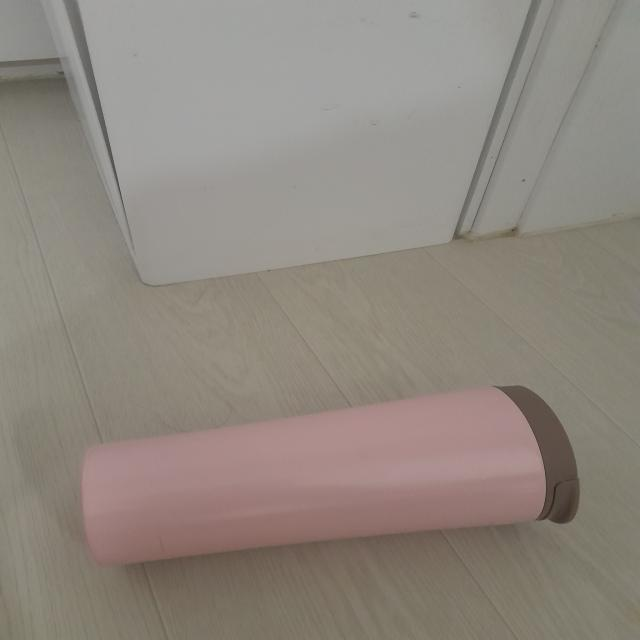waterbottle: (83, 385, 582, 566)
